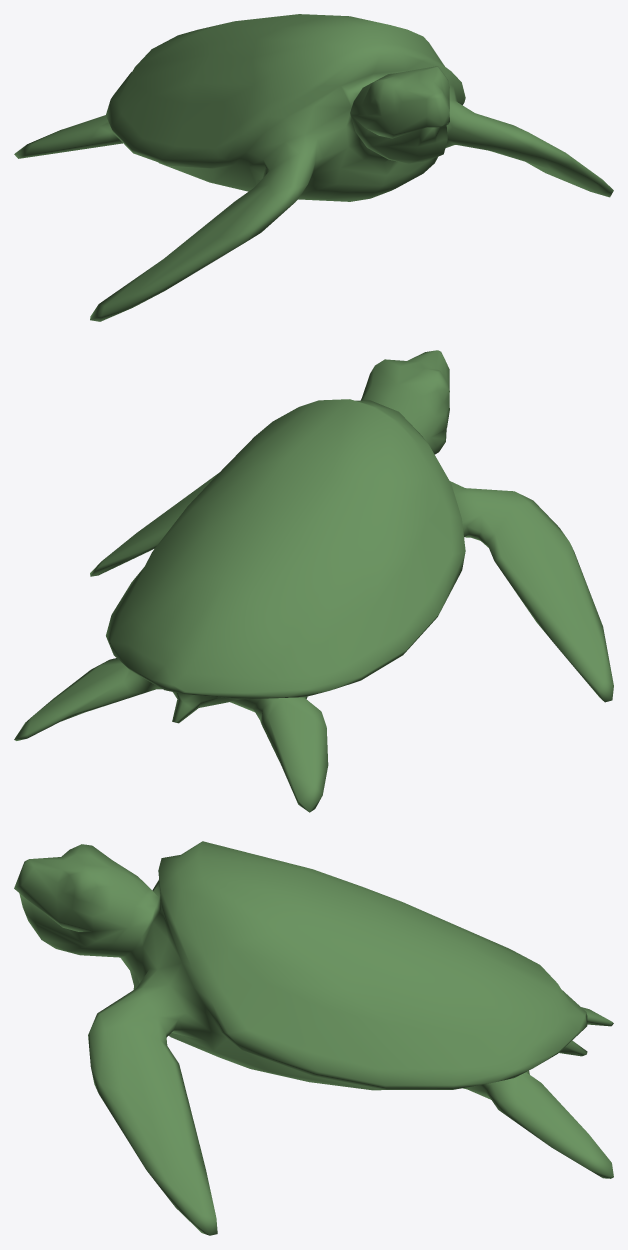
File: turtle.glb
3 renders of one model, top to bottom at view 1: azimuth 30°, elevation 25°; view 2: azimuth 150°, elevation 25°; view 3: azimuth 270°, elevation 25°, orthographic. The views are drawn at different scales.
Parts seen in each view (by area): view 1: Object_9; view 2: Object_9; view 3: Object_9.
Part boxes in pixels (x1,y1,x2,y2): Object_9: (14, 14, 613, 321); Object_9: (14, 350, 613, 812); Object_9: (14, 841, 613, 1235).
Size of the model in its own units: 1 by 0.4286 by 0.933.
